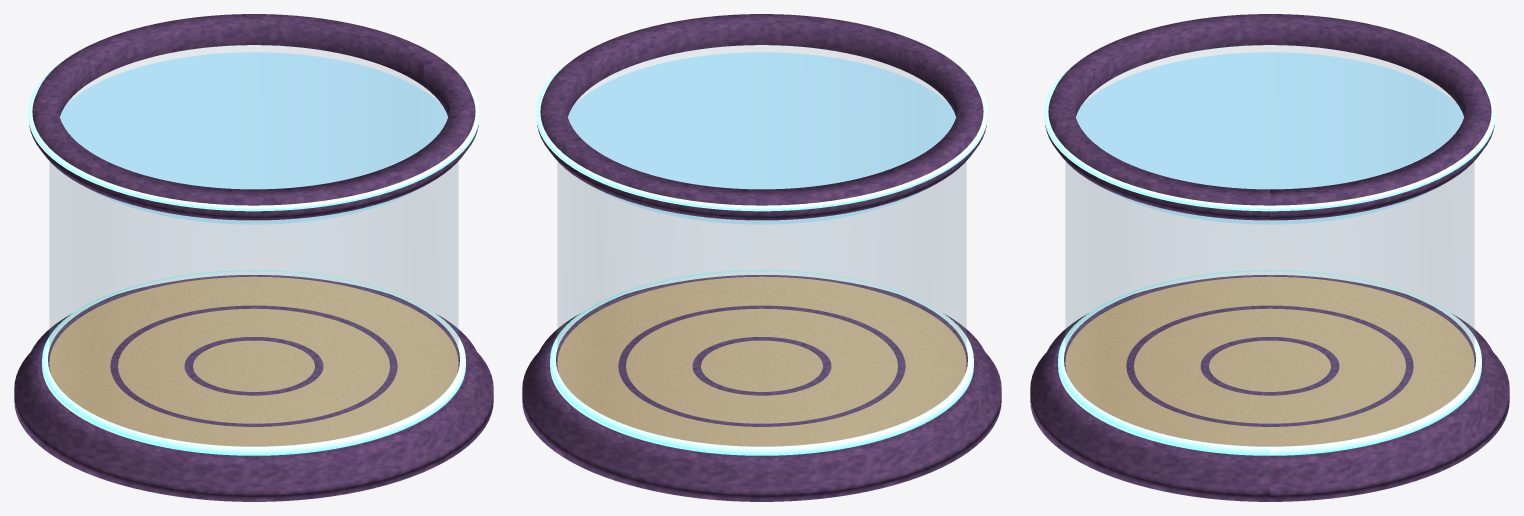
The model's file is kt_aquarium.glb.
The picture shows the model from 3 angles, left to right: view 1: azimuth 30°, elevation 25°; view 2: azimuth 150°, elevation 25°; view 3: azimuth 270°, elevation 25°; orthographic projection.
Visible parts, largest first — view 1: kt_aquarium; view 2: kt_aquarium; view 3: kt_aquarium.
Part boxes in pixels (bbox=[...]): kt_aquarium: bbox=[14, 14, 493, 501]; kt_aquarium: bbox=[522, 14, 1001, 501]; kt_aquarium: bbox=[1030, 14, 1509, 501].
Bounding box in the file's own units: 16.4 × 11.1 × 16.4.
5 materials, 2 textured.
